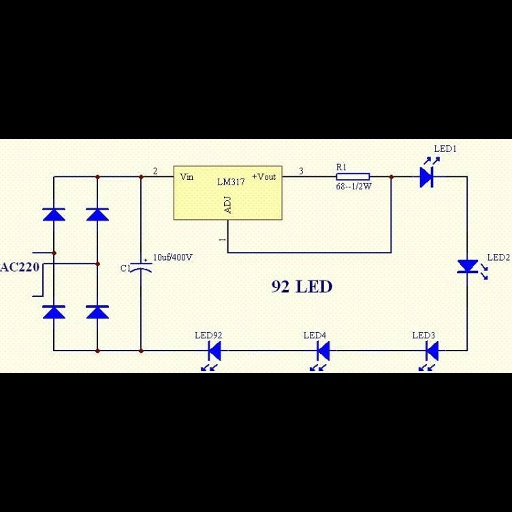firstdiode: (37, 303, 69, 324), (82, 301, 114, 322), (80, 204, 112, 224), (40, 205, 68, 226)
firstled: (195, 338, 229, 374), (413, 153, 443, 189), (451, 256, 489, 284), (415, 341, 449, 372), (307, 341, 338, 373)
firstpolarcapacitor: (131, 256, 153, 279)
firstresistance: (330, 171, 374, 181)
